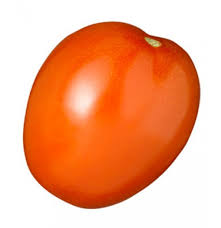tomato: (27, 12, 198, 204)
